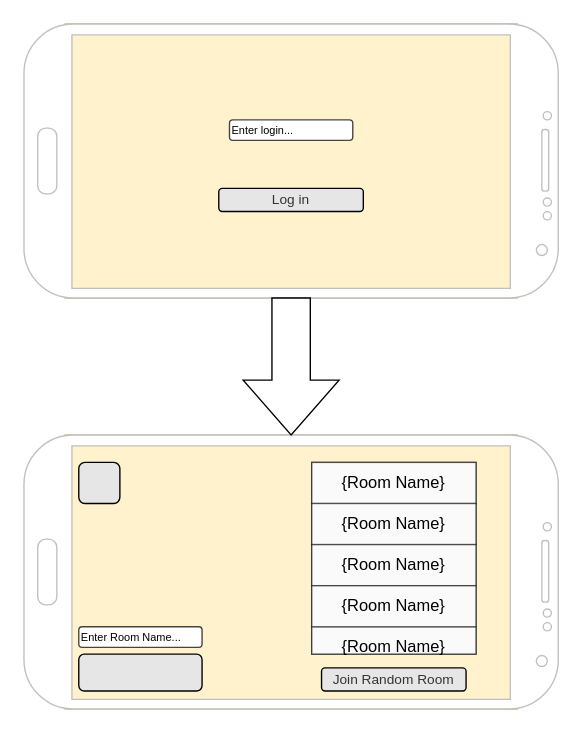
Image size: 582x733. Some labels were removed from this diagram. Here are the shapes that lost their labels. From the top down, the centre of each, then its label:
At (x=98, y=482): "Back".
At (x=139, y=672): "Create or Join Room".
